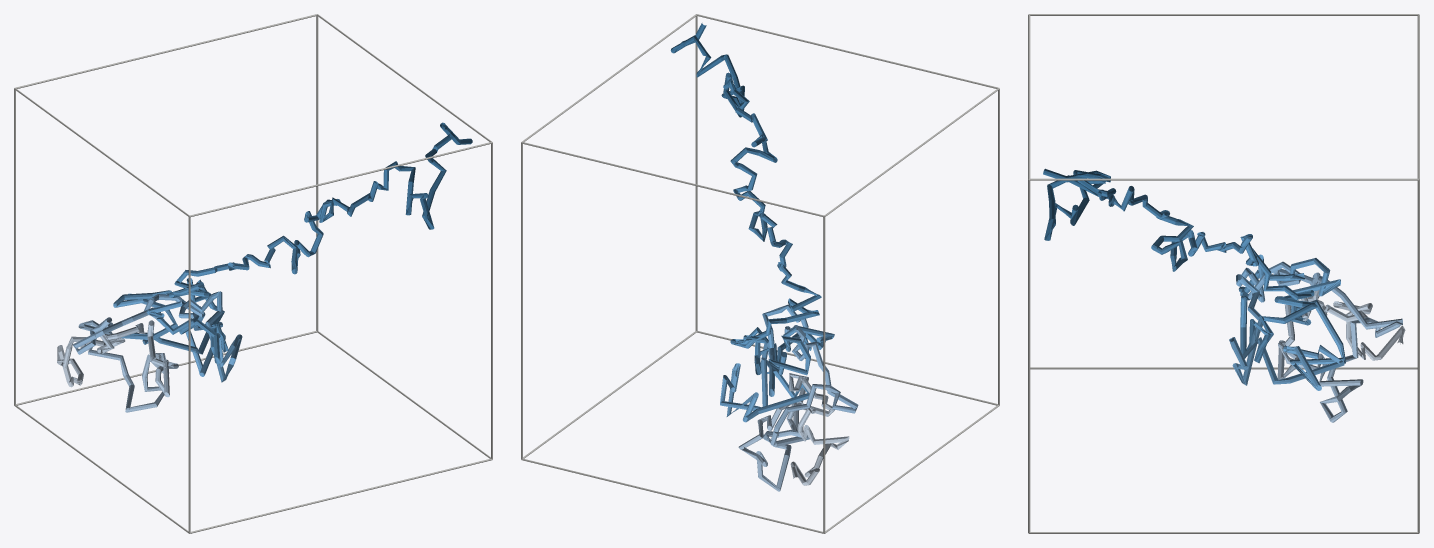
File: SP20_late.glb
The picture shows the model from 3 angles, left to right: view 1: azimuth 30°, elevation 25°; view 2: azimuth 150°, elevation 25°; view 3: azimuth 270°, elevation 25°; orthographic projection. The views are drawn at different scales.
Parts seen in each view (by area): view 1: geometry_0, geometry_1; view 2: geometry_0, geometry_1; view 3: geometry_0, geometry_1.
Boxes of the visible parts, box(x1,y1,x2,y2) form: geometry_0: box(57, 122, 472, 412); geometry_1: box(14, 14, 492, 533); geometry_0: box(670, 23, 858, 491); geometry_1: box(521, 14, 999, 533); geometry_0: box(1043, 168, 1405, 422); geometry_1: box(1028, 14, 1419, 533).
Size of the model in its own units: 0.3016 by 0.304 by 0.3016.
